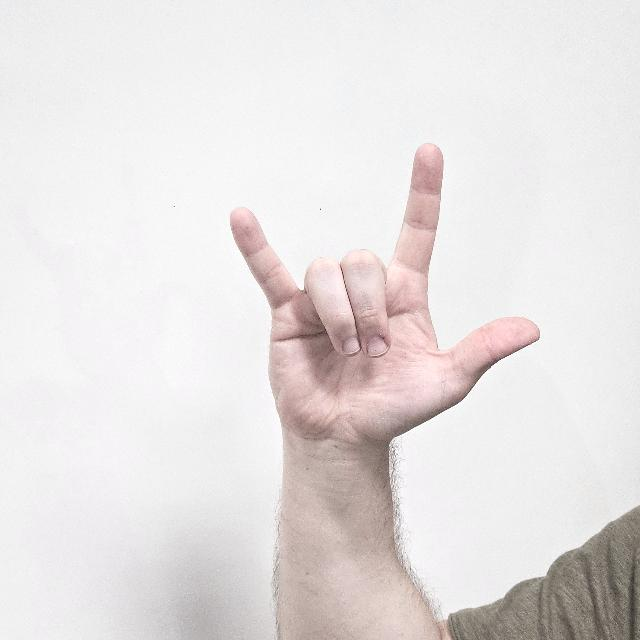Cima: (226, 140, 540, 466)
